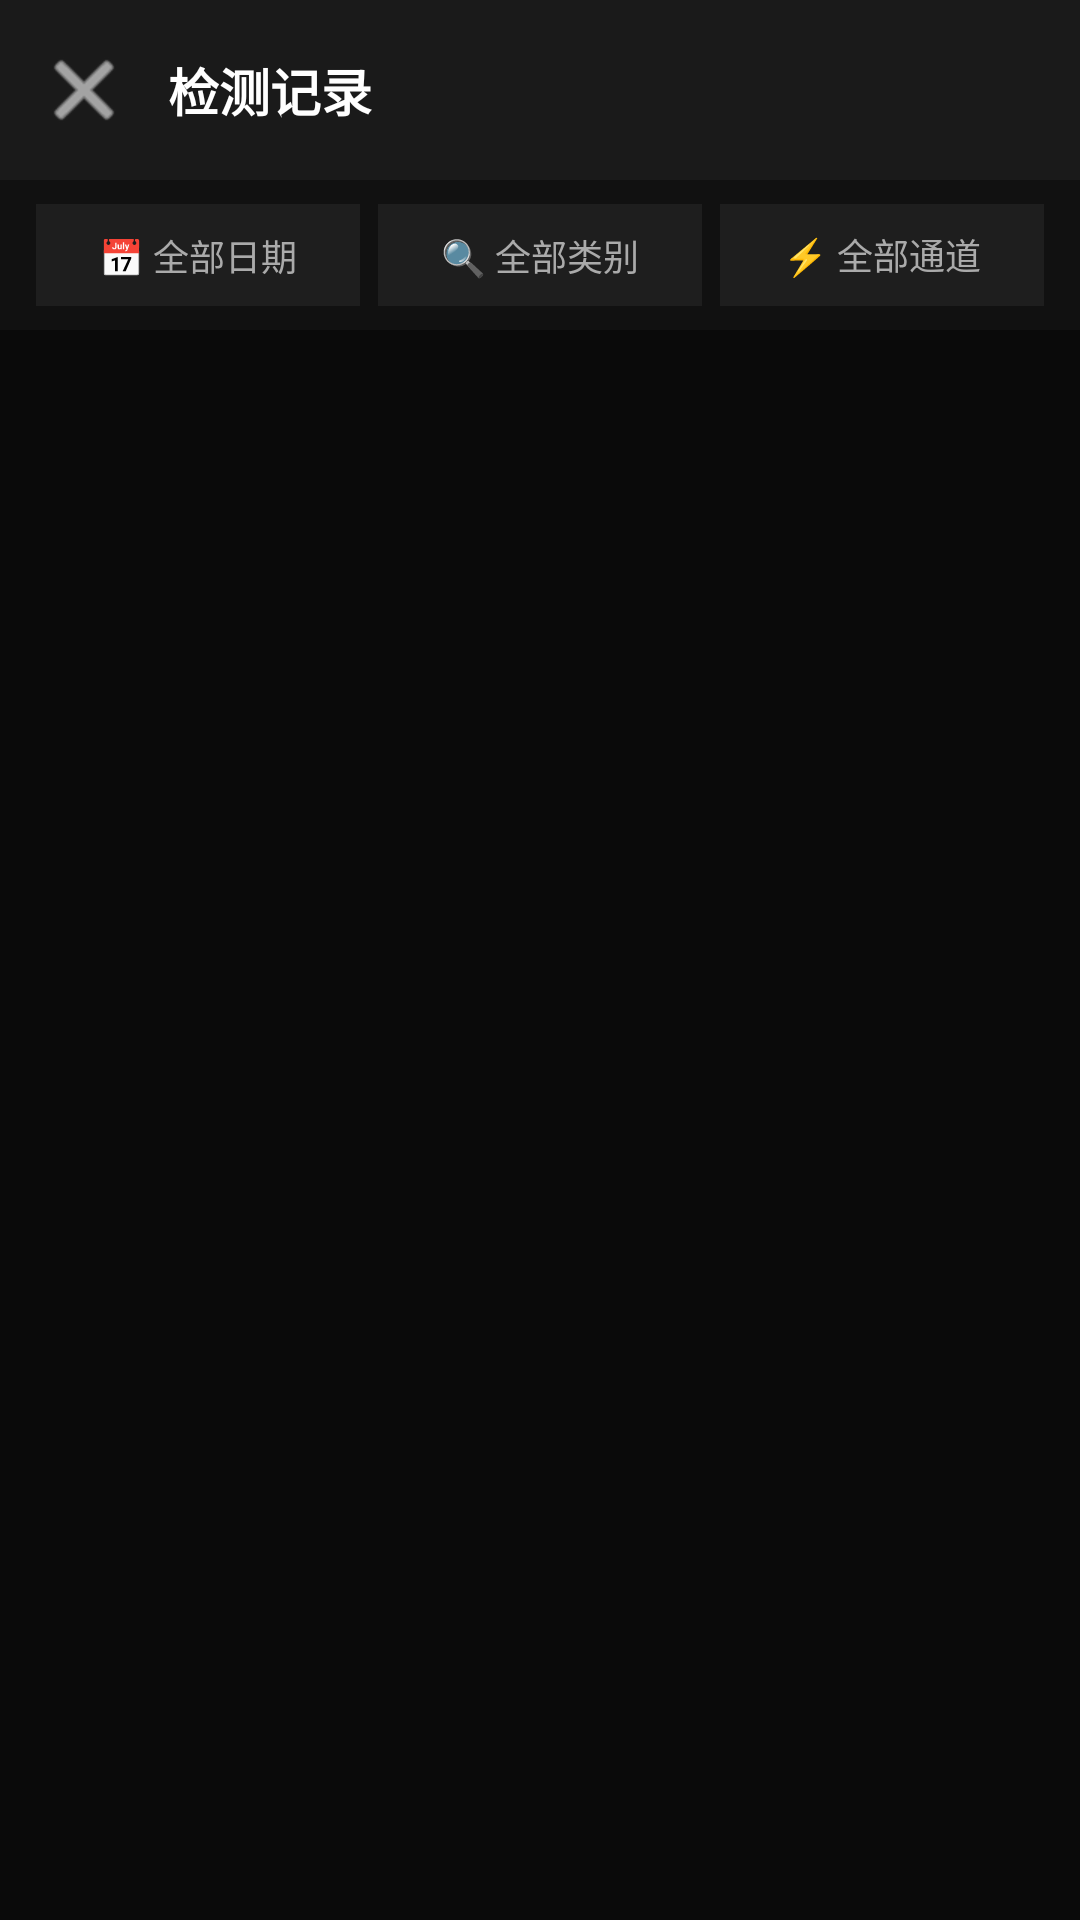

Where to tap for icons on this 1080*1920 app screen, as (x,y):
返回: (84,90)
